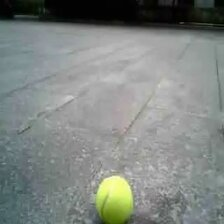tennis: (96, 177, 134, 222)
